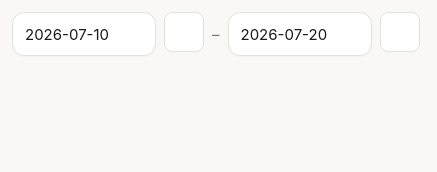
Test: DateRangePicker › mover 'desde' despues de 'hasta' corrige 'hasta'
Replace the text in the field named "Desde" with "2026-07-25" at (84, 34), box [12,12,156,56]
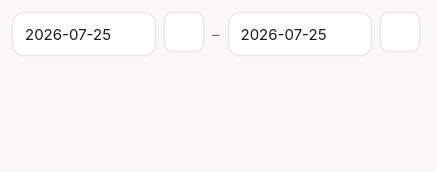
Result: the field named "Hasta" holds "2026-07-25" at [228,12,372,56]
